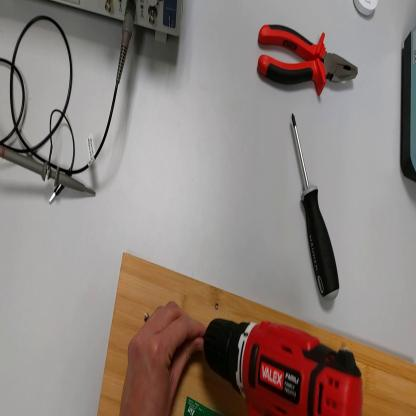electric screwdriver: (205, 321, 364, 415)
hand: (119, 303, 205, 415)
oscilloscope: (41, 1, 186, 45)
oscilloscope probe tip: (2, 143, 96, 200)
pliers: (255, 13, 359, 103)
screwdriver-: (293, 114, 342, 304)
welder station: (402, 21, 416, 183)
working area: (98, 255, 416, 416)
